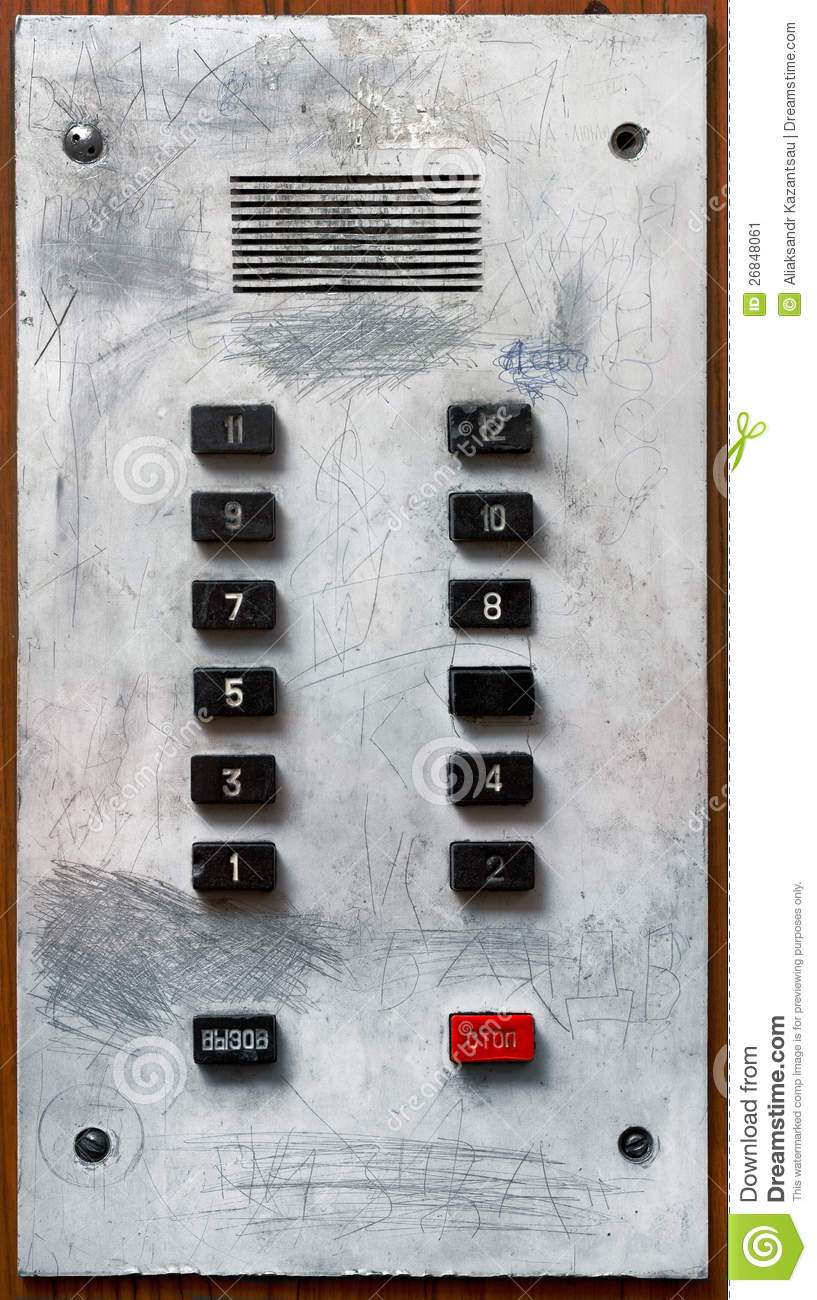button: (441, 746, 540, 808), (187, 485, 279, 548), (187, 399, 280, 461), (445, 1007, 540, 1067), (440, 398, 536, 457), (444, 662, 538, 722), (188, 574, 280, 635), (190, 664, 281, 724), (188, 838, 280, 897), (189, 1010, 280, 1069), (444, 488, 536, 546), (445, 575, 535, 634), (189, 752, 280, 810), (447, 839, 537, 896)
